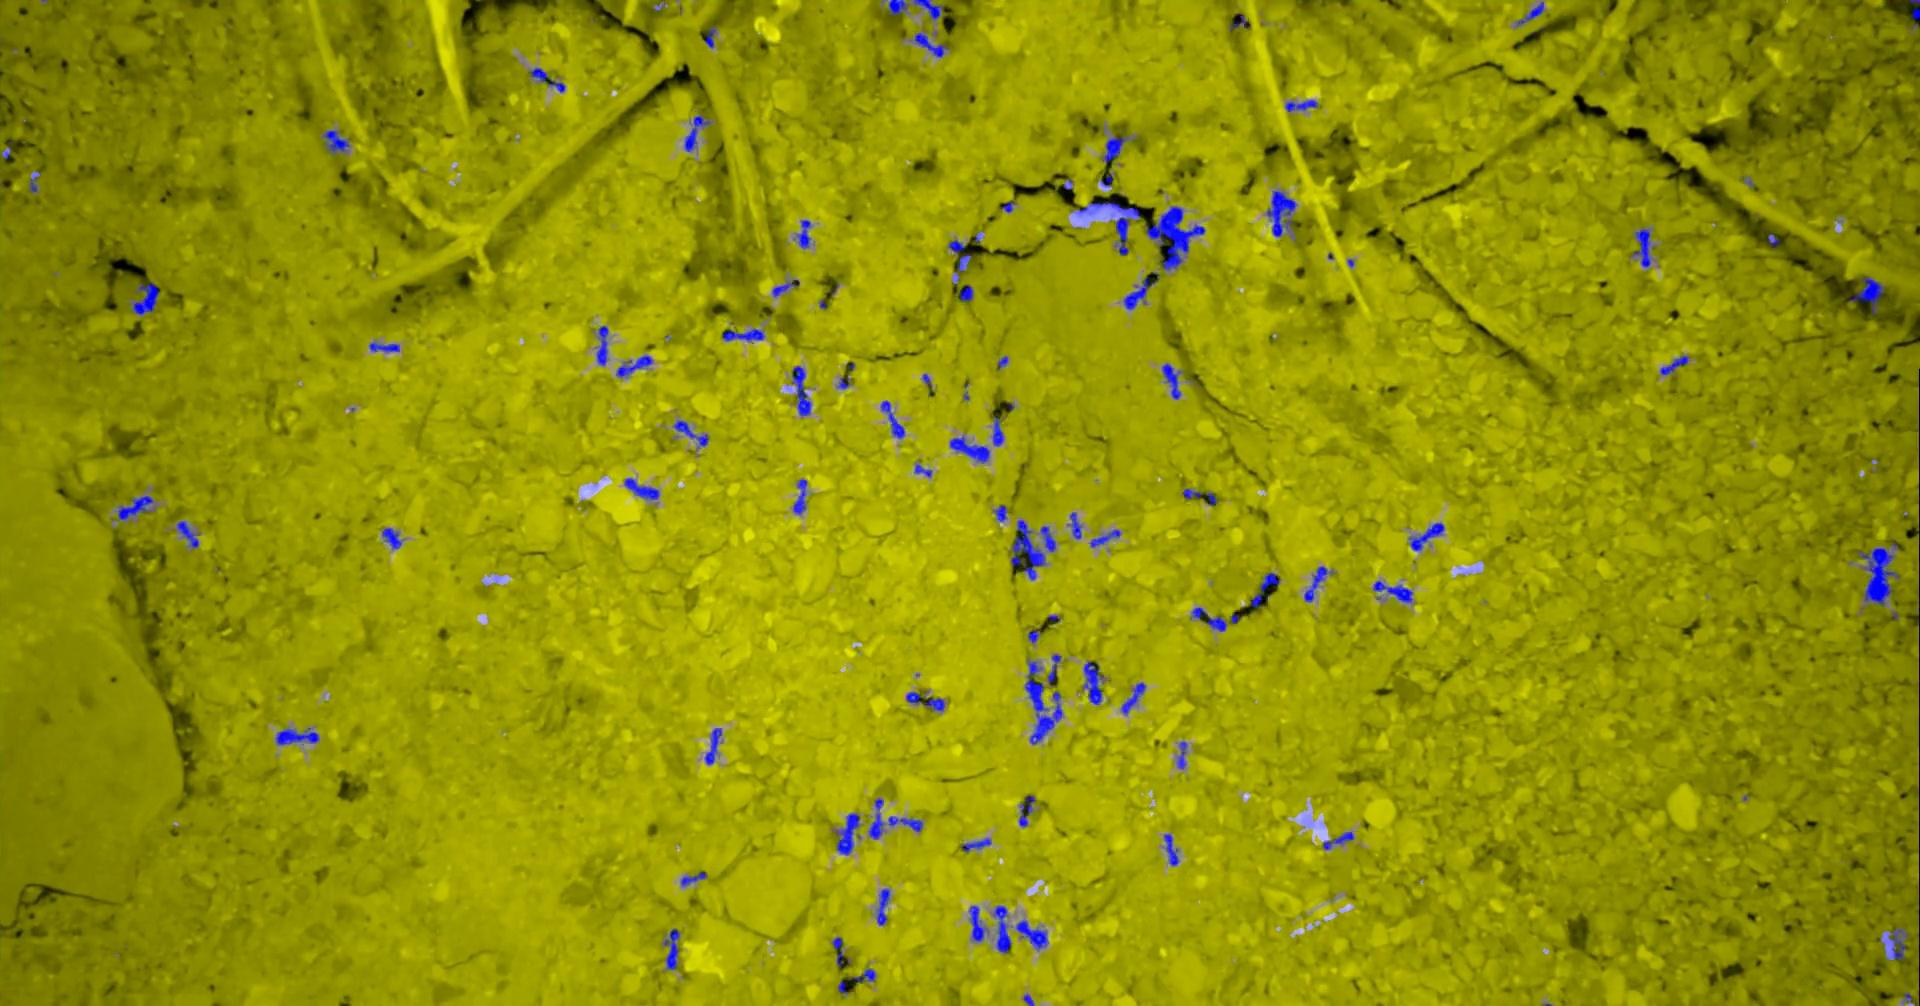ant: (1023, 661, 1062, 744), (1090, 201, 1140, 255), (869, 798, 922, 840), (1010, 520, 1044, 579), (1266, 191, 1295, 236), (1848, 276, 1883, 312), (1123, 276, 1156, 309), (949, 436, 989, 462), (1303, 567, 1333, 601), (1250, 572, 1279, 607), (1015, 920, 1048, 950), (791, 365, 810, 415), (1408, 522, 1443, 550), (1082, 661, 1103, 704), (836, 813, 858, 854), (880, 400, 904, 438), (1632, 227, 1655, 267), (131, 281, 157, 314), (1371, 580, 1412, 602), (684, 116, 709, 151), (673, 420, 709, 445), (117, 495, 152, 520), (1190, 607, 1225, 631), (615, 354, 651, 377), (914, 32, 947, 57), (992, 904, 1010, 951), (530, 67, 564, 91), (623, 478, 659, 499), (276, 727, 319, 744), (1121, 682, 1145, 714), (905, 691, 943, 710), (1516, 0, 1543, 25), (1161, 363, 1180, 399), (1102, 135, 1126, 163), (663, 929, 679, 969), (703, 727, 721, 763), (968, 904, 985, 941), (323, 130, 349, 152), (1182, 488, 1217, 506), (912, 0, 943, 19), (177, 520, 198, 547), (721, 328, 764, 340), (1322, 831, 1352, 848), (1660, 354, 1688, 373), (1090, 528, 1119, 546), (876, 888, 890, 925), (1888, 929, 1905, 959), (1163, 833, 1178, 865), (792, 479, 806, 513), (1018, 795, 1034, 826), (960, 837, 990, 852), (596, 325, 607, 365), (772, 279, 799, 296), (381, 527, 401, 547), (796, 218, 810, 248), (1040, 526, 1055, 551), (1285, 99, 1318, 111), (957, 253, 971, 279), (1048, 654, 1060, 683), (850, 968, 875, 982), (992, 415, 1003, 445), (832, 937, 843, 967), (681, 873, 706, 885), (1229, 15, 1250, 30), (1069, 512, 1081, 539), (1909, 0, 1919, 28), (1176, 741, 1186, 768), (888, 0, 905, 15), (368, 342, 399, 351), (957, 285, 973, 301), (703, 25, 715, 47), (29, 170, 41, 192), (949, 239, 964, 253), (914, 464, 931, 476), (994, 504, 1006, 521), (1768, 231, 1779, 246), (838, 373, 850, 387), (1027, 629, 1037, 641)
